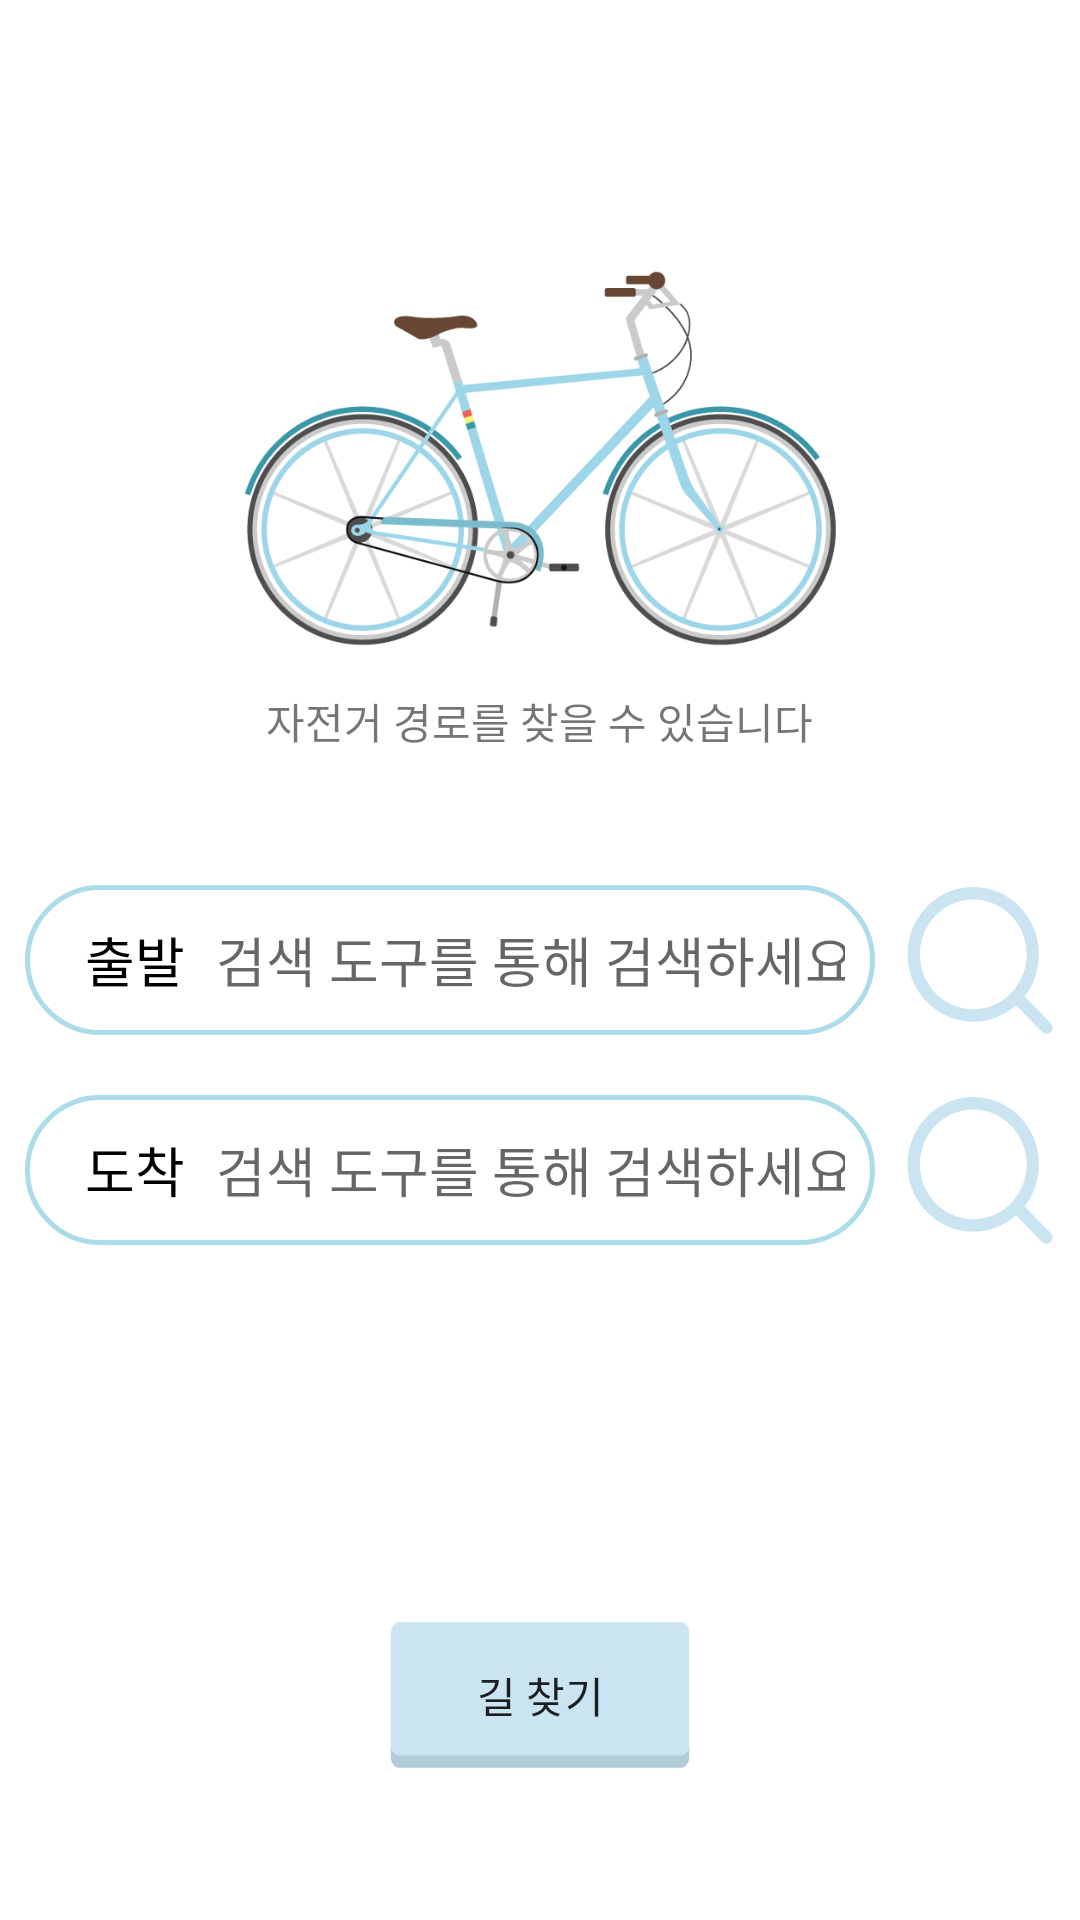

Named icons in this screenshot (1080×1920) and their bounding boxes, (x1,y1,x2,y2):
search: (908,887,1053,1034), (908,1097,1053,1244)
